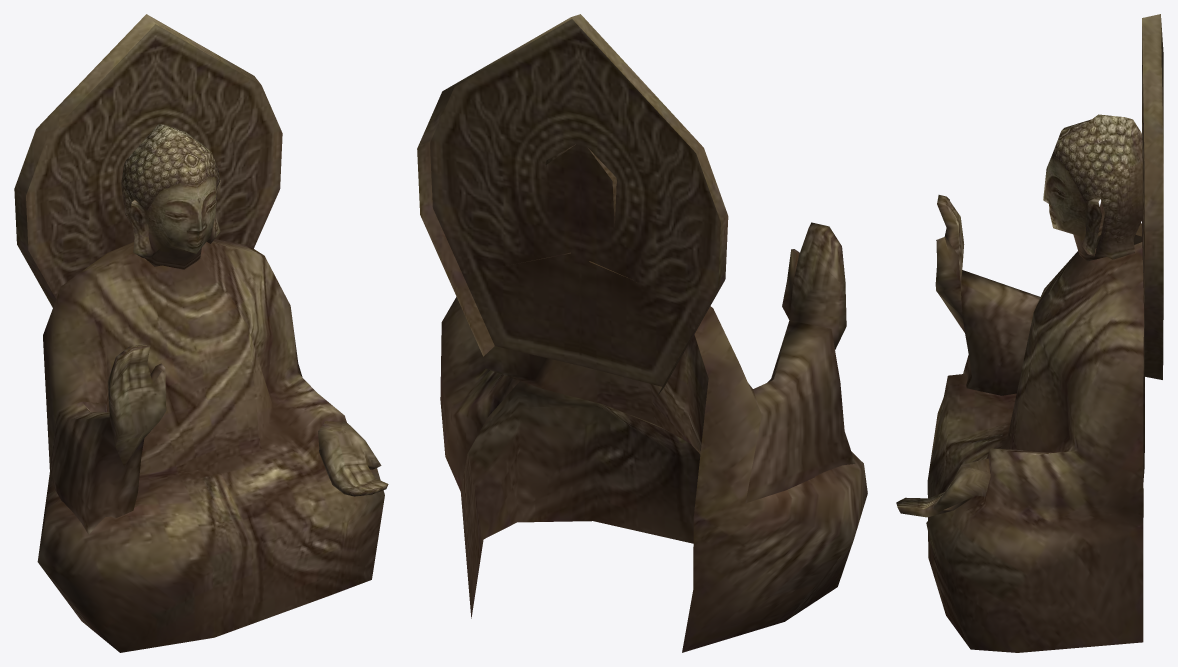
File: yw_dunhuang_canjiudafo01.FBX
3 views of the same model, side by side, from view 1: azimuth 30°, elevation 25°; view 2: azimuth 150°, elevation 25°; view 3: azimuth 270°, elevation 25° (orthographic). The views are drawn at different scales.
Visible parts, largest first — view 1: yw_dunhuang_canjiudafo01; view 2: yw_dunhuang_canjiudafo01; view 3: yw_dunhuang_canjiudafo01.
Part boxes in pixels (x1,y1,x2,y2): yw_dunhuang_canjiudafo01: [14, 14, 388, 652]; yw_dunhuang_canjiudafo01: [417, 14, 867, 652]; yw_dunhuang_canjiudafo01: [896, 14, 1163, 652].
Bounding box in the file's own units: 770 × 1213 × 507.
1 material, 1 textured.
